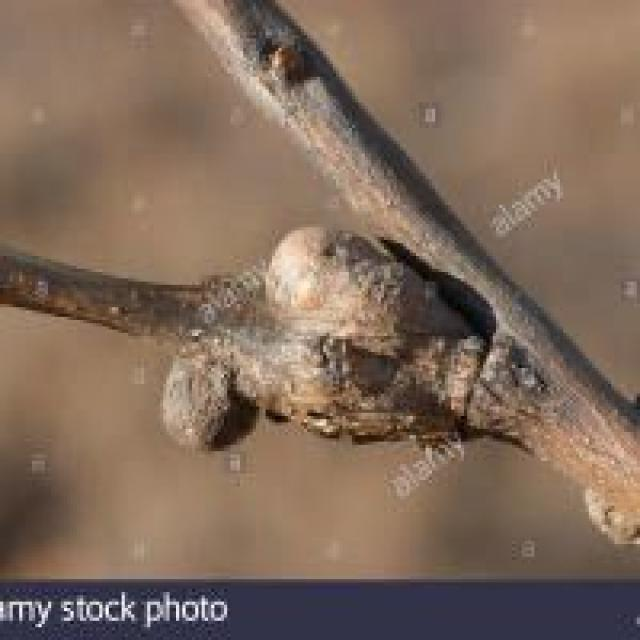Tuberculosis: (160, 227, 538, 448)
